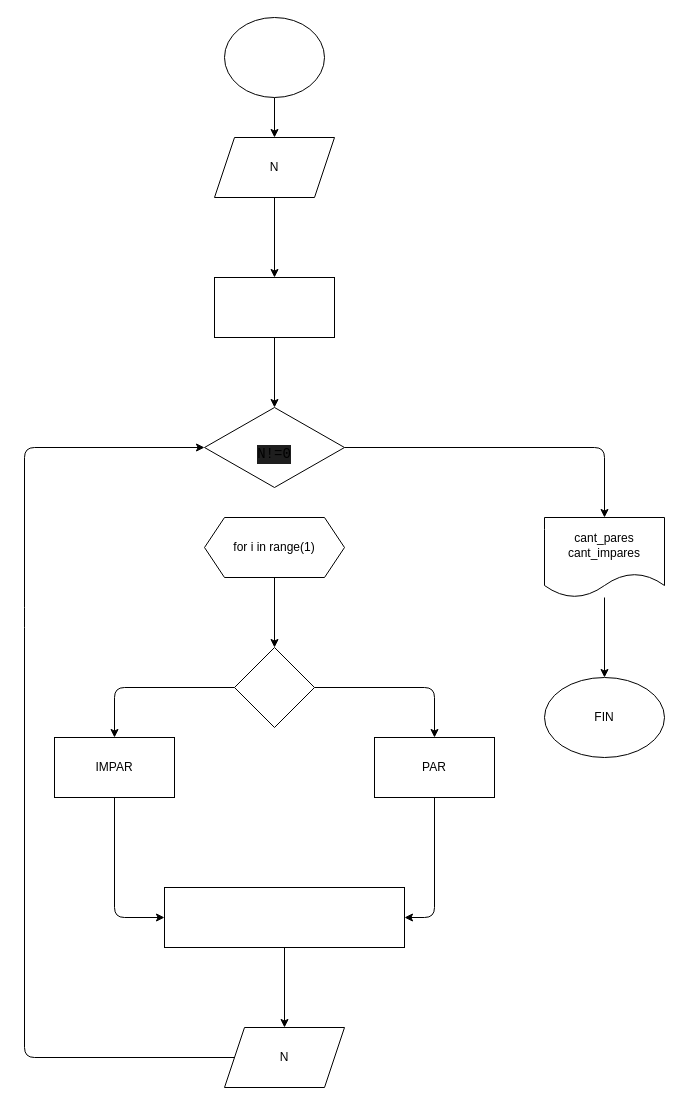
The diagram is 682 pixels wide and 1105 high, and some of its shapes have lost their labels. The shapes that lost their labels are listed below. From the top down, each one's centre as x and y in pixels, then its label:
point (274, 57): INICIO
point (274, 307): Numero_par=0 Numero_impar=0
point (274, 687): N%2==0
point (284, 917): Numero_par=Numero_par+1 Numero_impar=Numero_impar+1
